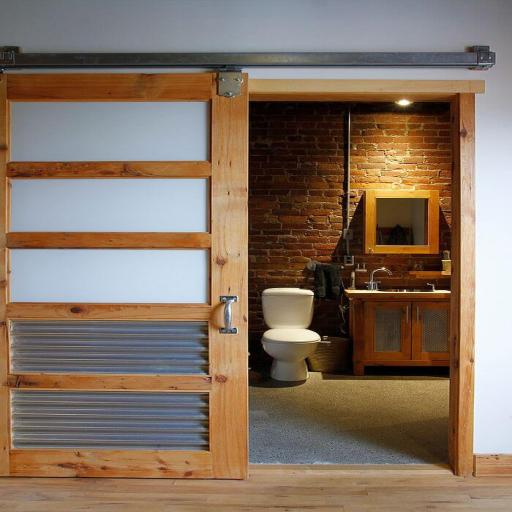Door: (0, 68, 486, 480)
